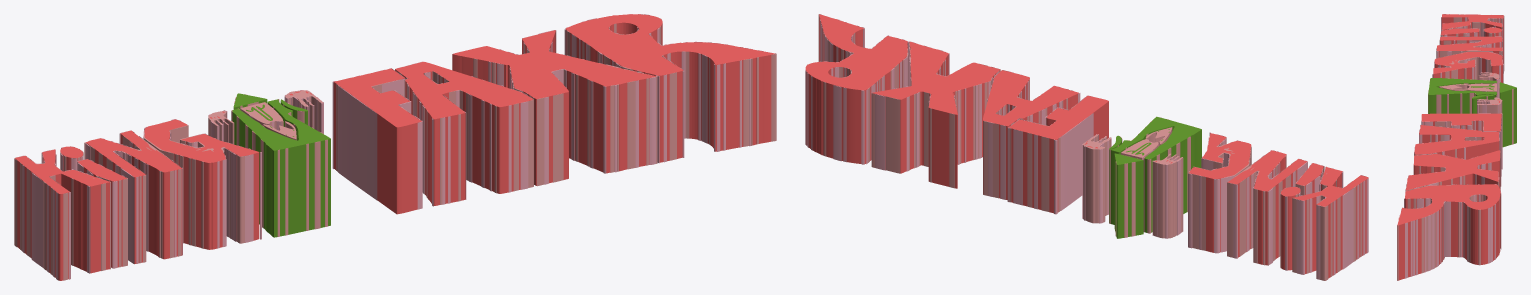
Rendered from king_faxr.fbx.
3 views of the same model, side by side, from view 1: azimuth 30°, elevation 25°; view 2: azimuth 150°, elevation 25°; view 3: azimuth 270°, elevation 25° (orthographic). The views are drawn at different scales.
Visible parts, largest first — view 1: path0, path2, path3, path1; view 2: path0, path2, path3, path1; view 3: path0, path3, path2, path1.
Part boxes in pixels (x1=…): path0: x1=15, y1=14, x2=774, y2=280; path2: x1=14, y1=16, x2=776, y2=280; path3: x1=21, y1=14, x2=763, y2=280; path1: x1=232, y1=93, x2=330, y2=237; path0: x1=805, y1=14, x2=1368, y2=278; path2: x1=806, y1=14, x2=1365, y2=280; path3: x1=805, y1=19, x2=1368, y2=279; path1: x1=1109, y1=116, x2=1201, y2=238; path0: x1=1397, y1=14, x2=1503, y2=280; path3: x1=1399, y1=14, x2=1503, y2=278; path2: x1=1397, y1=14, x2=1513, y2=280; path1: x1=1428, y1=78, x2=1516, y2=147.
Bounding box in the file's own units: 127 × 15.45 × 30.37.
